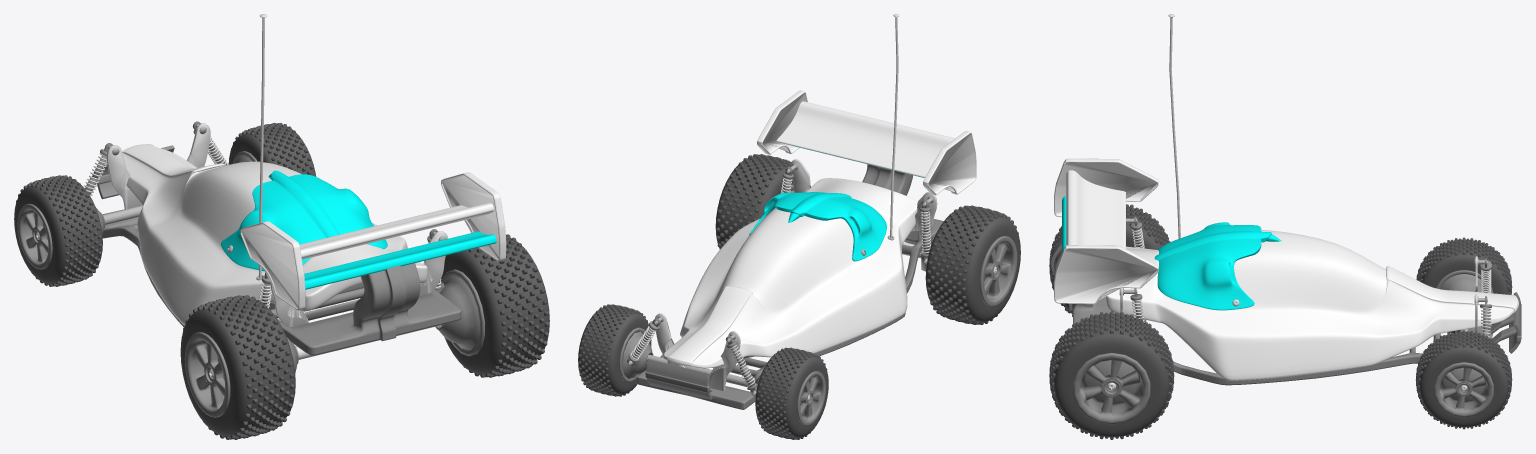
The model's file is RC_Car.fbx.
3 views of the same model, side by side, from view 1: azimuth 30°, elevation 25°; view 2: azimuth 150°, elevation 25°; view 3: azimuth 270°, elevation 25° (orthographic). The views are drawn at different scales.
Visible parts, largest first — view 1: Body1, Frame, Wheel_Tire.002, Wheel_Tire, Body2, Wheel_Tire.003, bevelPolygon4, loftedSurface2, loftedSurface1, Wheel_Rim.002, bevelPolygon3, Wheel_Hub (+8 smaller); view 2: Body1, loftedSurface1, Wheel_Tire.002, Body2, Frame, Wheel_Tire.003, Wheel_Tire.001, Wheel_Tire, bevelPolygon4, Wheel_Rim.002, pCylinder9, bevelPolygon3 (+7 smaller); view 3: Body1, Body2, Wheel_Tire, bevelPolygon3, loftedSurface1, Wheel_Tire.001, Wheel_Rim, bevelPolygon4, Frame, Wheel_Rim.001, Wheel_Tire.003, Wheel_Inner (+5 smaller).
Boxes of the visible parts, x1,y1,x2,y2 form: Body1: (122,144,427,325); Frame: (102,209,461,355); Wheel_Tire.002: (180,298,295,436); Wheel_Tire: (439,238,549,374); Body2: (221,170,387,271); Wheel_Tire.003: (14,178,102,284); bevelPolygon4: (240,221,305,310); loftedSurface2: (304,231,496,289); loftedSurface1: (299,202,493,259); Wheel_Rim.002: (184,332,230,417); bevelPolygon3: (441,172,506,261); Wheel_Hub: (435,276,480,350); Body1: (663,178,917,368); loftedSurface1: (776,101,954,177); Wheel_Tire.002: (925,208,1020,322); Body2: (749,192,886,261); Frame: (636,164,943,409); Wheel_Tire.003: (755,350,828,437); Wheel_Tire.001: (578,307,651,394); Wheel_Tire: (715,157,792,249); bevelPolygon4: (923,131,976,195); Wheel_Rim.002: (979,236,1017,306); pCylinder9: (645,359,712,399); bevelPolygon3: (757,90,807,154); Body1: (1105,229,1519,380); Body2: (1154,222,1281,310); Wheel_Tire: (1053,313,1170,437); bevelPolygon3: (1054,245,1158,304); loftedSurface1: (1066,170,1125,248); Wheel_Tire.001: (1418,332,1509,427); Wheel_Rim: (1073,352,1150,424); bevelPolygon4: (1054,158,1158,217); Frame: (1050,236,1492,385); Wheel_Rim.001: (1434,362,1493,417); Wheel_Tire.003: (1420,239,1509,332); Wheel_Inner: (1081,360,1141,406).
Bounding box in the file's own units: 18.52 × 21.03 × 27.
